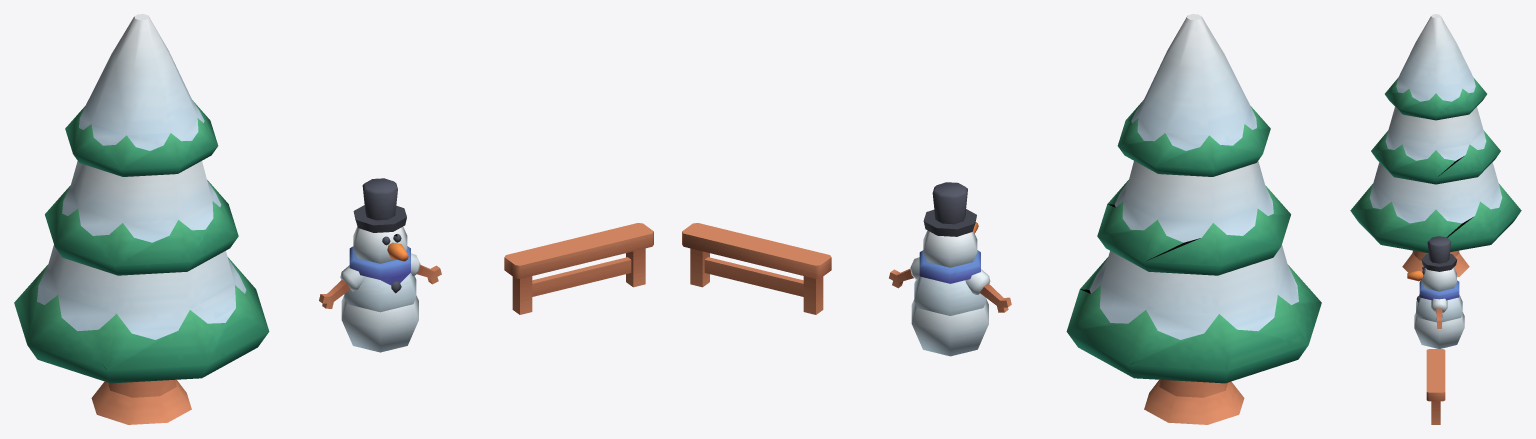
The model's file is Snow.fbx.
3 views of the same model, side by side, from view 1: azimuth 30°, elevation 25°; view 2: azimuth 150°, elevation 25°; view 3: azimuth 270°, elevation 25° (orthographic). The views are drawn at different scales.
Visible parts, largest first — view 1: Snow_SnowPine, Snow_Snowman, Snow_Fence; view 2: Snow_SnowPine, Snow_Snowman, Snow_Fence; view 3: Snow_SnowPine, Snow_Snowman, Snow_Fence.
Part boxes in pixels (x1,y1,x2,y2): Snow_SnowPine: (14,14,269,424); Snow_Snowman: (319,178,441,352); Snow_Fence: (504,223,653,314); Snow_SnowPine: (1066,14,1321,424); Snow_Snowman: (889,182,1011,356); Snow_Fence: (682,223,831,314); Snow_SnowPine: (1350,14,1521,277); Snow_Snowman: (1407,236,1464,348); Snow_Fence: (1426,349,1445,424).
Bounding box in the file's own units: 36.99 × 22 × 13.63.
3 materials, 3 textured.
